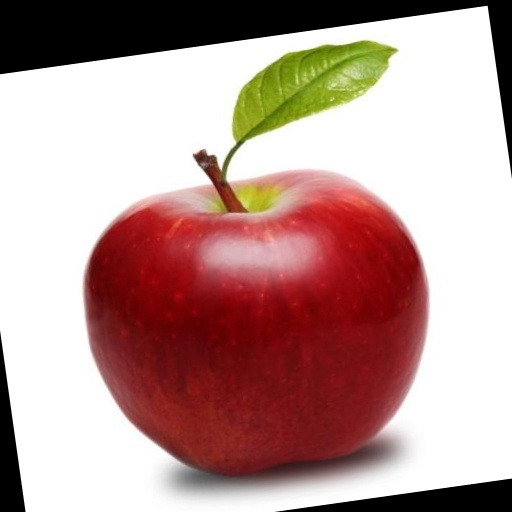fruit: (84, 41, 428, 475)
